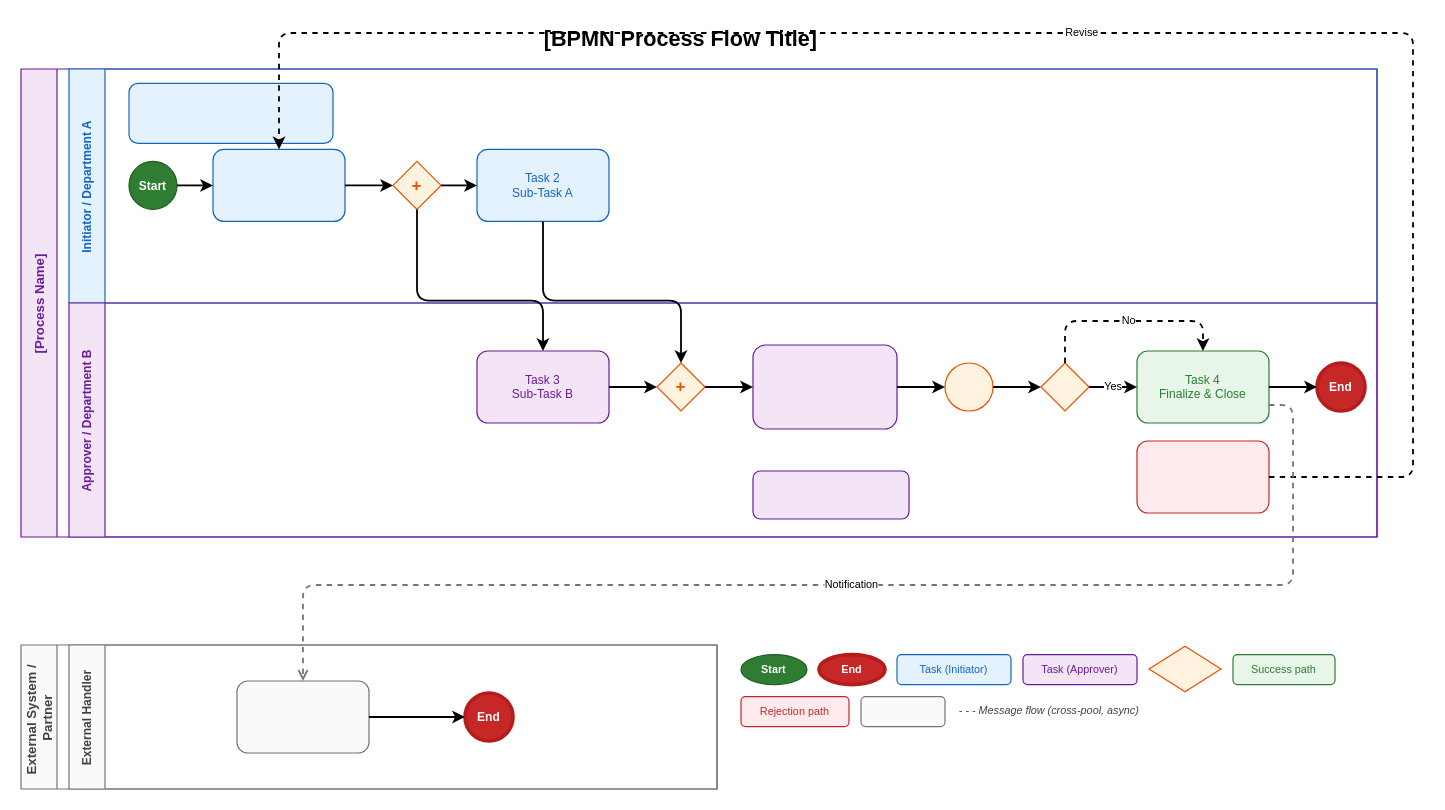
This 1445x810 diagram has some shape labels left out. The shapes that lost their labels are listed below. From the top down, each one's centre as x and y in pixels, then its label:
At point 230,112: "Process trigger: [Describe initiating condition]".
At point 278,184: "Task 1 Prepare Request".
At point 824,386: "Review Sub-Process +".
At point 968,386: "Wait for Response".
At point 1064,386: "Approved?".
At point 830,494: "[Expand to define sub-process steps]".
At point 1202,476: "Task 5 Revise & Resubmit".
At point 1184,668: "Gateway".
At point 302,716: "Handle Externally".
At point 902,711: "External".
